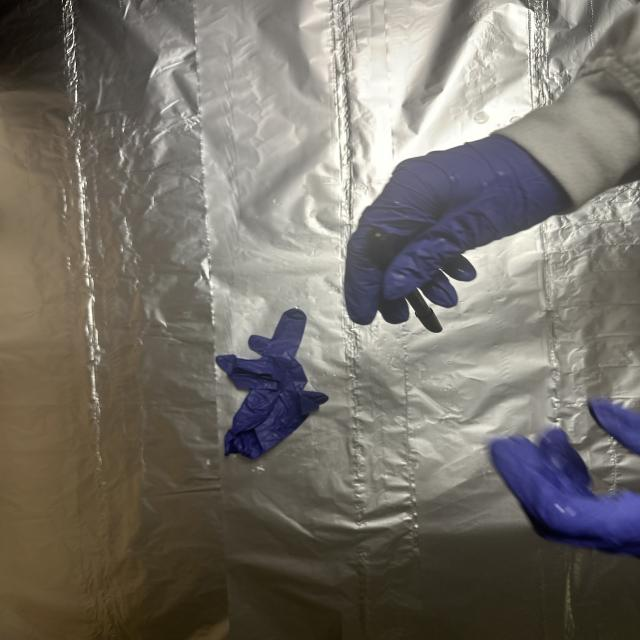gloves_contaminated: (345, 135, 568, 325), (491, 428, 640, 554), (590, 400, 640, 454)
